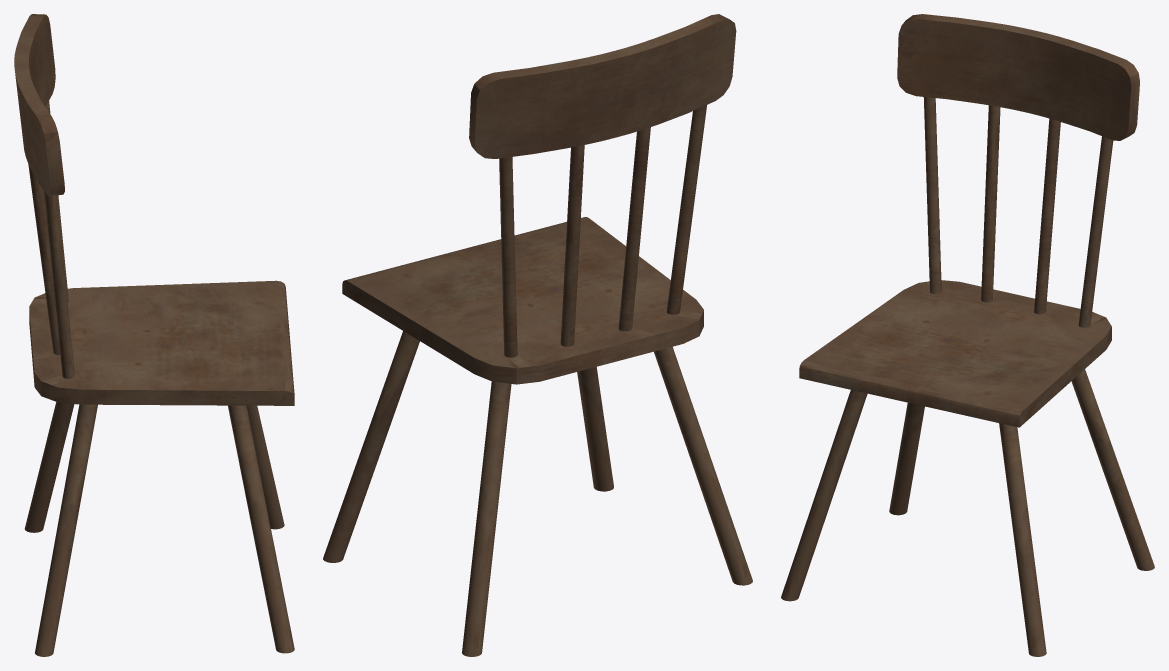
File: chair.gltf
3 views of the same model, side by side, from view 1: azimuth 30°, elevation 25°; view 2: azimuth 150°, elevation 25°; view 3: azimuth 270°, elevation 25° (orthographic). The views are drawn at different scales.
Visible parts, largest first — view 1: Cube.003; view 2: Cube.003; view 3: Cube.003.
Part boxes in pixels (<box>): Cube.003: <box>14,14,294,656</box>; Cube.003: <box>323,14,752,656</box>; Cube.003: <box>781,14,1154,656</box>.
Size of the model in its own units: 0.5621 by 0.8794 by 0.5951.
1 material, 1 textured.
